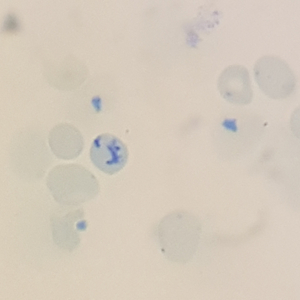aggregate reticulocyte: (87, 132, 131, 177)
erythrocyte: (44, 162, 100, 208), (48, 207, 91, 256), (41, 52, 90, 93), (46, 122, 86, 162)
punctate reticulocyte: (155, 208, 204, 266), (252, 54, 297, 101), (215, 63, 256, 108)
